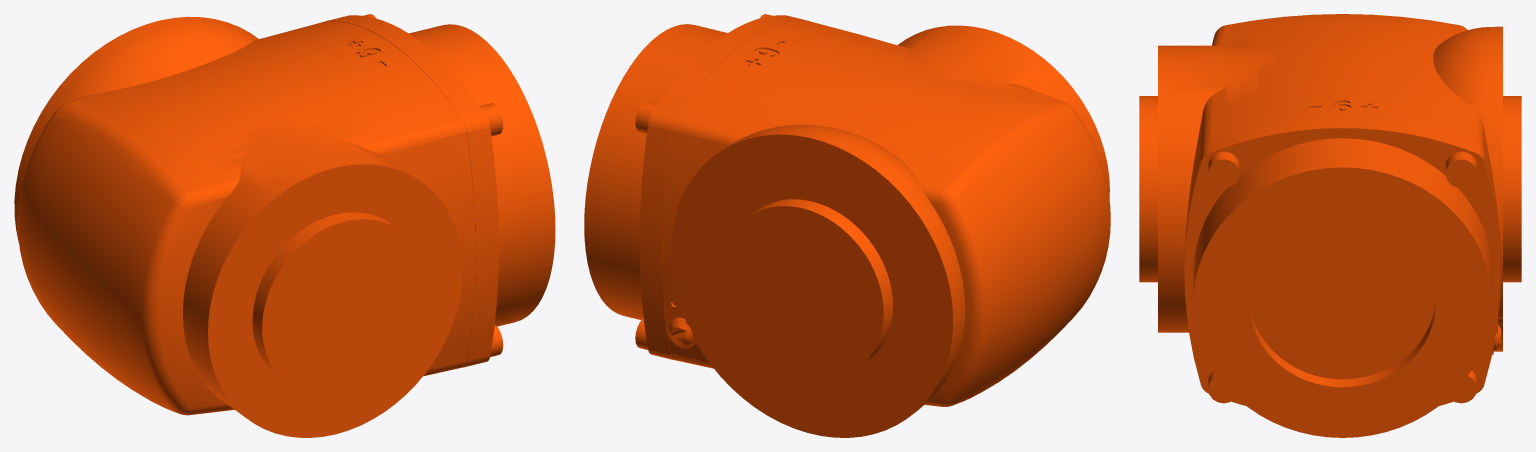
3 views of the same model, side by side, from view 1: azimuth 30°, elevation 25°; view 2: azimuth 150°, elevation 25°; view 3: azimuth 270°, elevation 25° (orthographic). The views are drawn at different scales.
Parts seen in each view (by area): view 1: link_5; view 2: link_5; view 3: link_5.
Boxes of the visible parts, bbox=[...] form: link_5: bbox=[14, 14, 555, 437]; link_5: bbox=[584, 14, 1110, 437]; link_5: bbox=[1139, 14, 1521, 437].
Bounding box in the file's own units: 0.1225 × 0.1025 × 0.0871.
